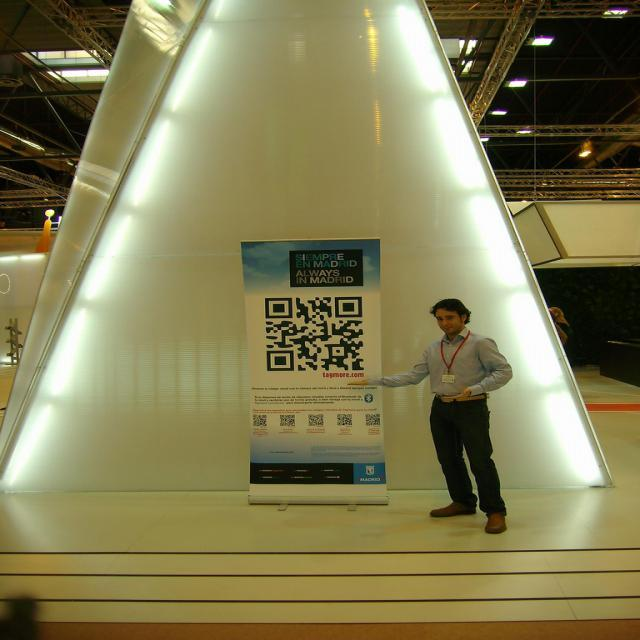qr_code: (265, 297, 363, 371), (336, 414, 352, 424), (366, 414, 380, 425), (252, 415, 266, 426), (280, 416, 294, 426), (308, 414, 322, 424)
